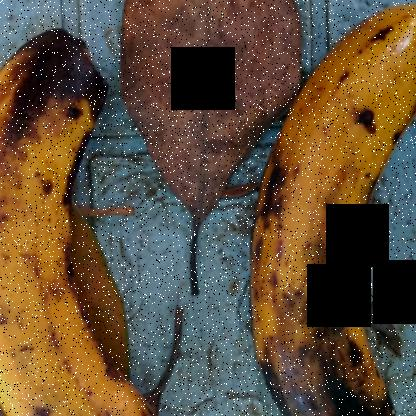overripe: (0, 1, 162, 415)
rotten: (235, 0, 416, 415)
